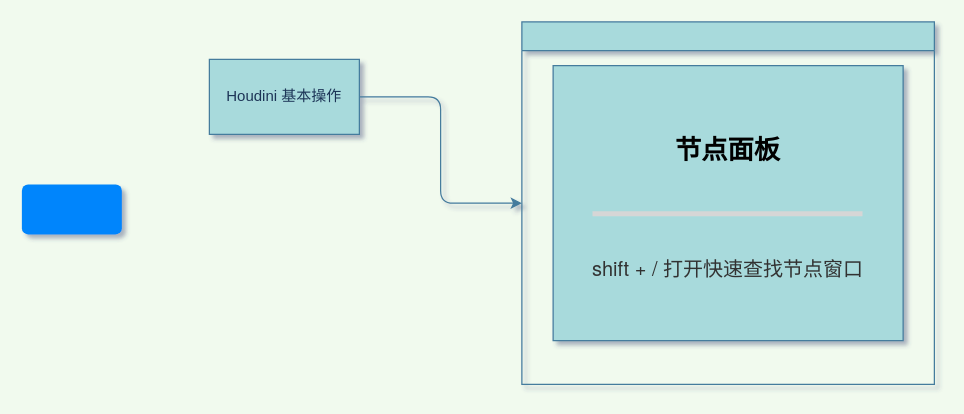
Image size: 964x414. Some labels were removed from this diagram. Here are the shapes that lost their labels. From the top down, the box of each, then its label:
(21, 184, 121, 234): 视频链接
(521, 21, 934, 384): Container
